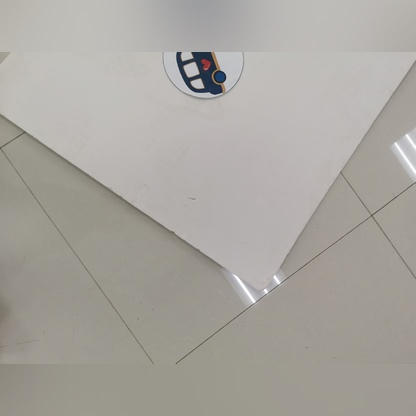car: (163, 51, 245, 99)
